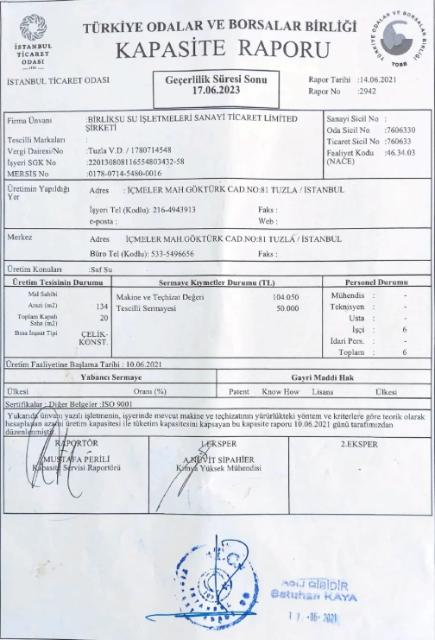stamp: (167, 538, 259, 632)
